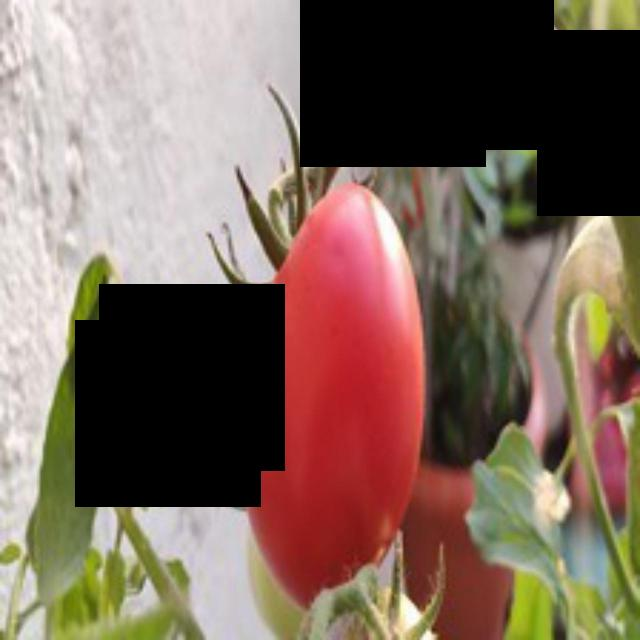tomato: (221, 191, 458, 600)
